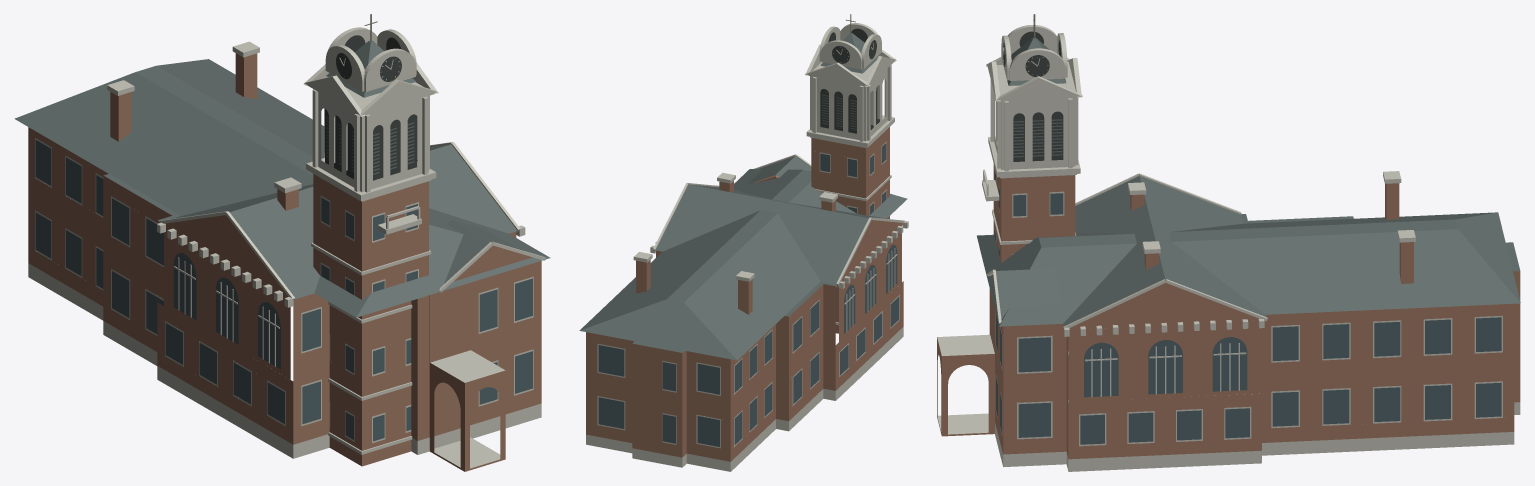
The model's file is gwinnett-historic-courthouse-near.glb.
3 views of the same model, side by side, from view 1: azimuth 30°, elevation 25°; view 2: azimuth 150°, elevation 25°; view 3: azimuth 270°, elevation 25° (orthographic). The views are drawn at different scales.
Parts seen in each view (by area): view 1: gwinnett-historic-courthouse-0-brick, gwinnett-historic-courthouse-0-roof, gwinnett-historic-courthouse-0-stone, gwinnett-historic-courthouse-0-glass, gwinnett-historic-courthouse-0-dark; view 2: gwinnett-historic-courthouse-0-roof, gwinnett-historic-courthouse-0-brick, gwinnett-historic-courthouse-0-stone, gwinnett-historic-courthouse-0-glass, gwinnett-historic-courthouse-0-dark; view 3: gwinnett-historic-courthouse-0-brick, gwinnett-historic-courthouse-0-roof, gwinnett-historic-courthouse-0-stone, gwinnett-historic-courthouse-0-glass, gwinnett-historic-courthouse-0-dark.
Boxes of the visible parts, x1,y1,x2,y2 form: gwinnett-historic-courthouse-0-brick: (28,53,541,471); gwinnett-historic-courthouse-0-roof: (14,40,550,317); gwinnett-historic-courthouse-0-stone: (28,27,545,468); gwinnett-historic-courthouse-0-glass: (35,140,532,441); gwinnett-historic-courthouse-0-dark: (325,35,417,180); gwinnett-historic-courthouse-0-roof: (579,33,907,360); gwinnett-historic-courthouse-0-brick: (586,127,903,461); gwinnett-historic-courthouse-0-stone: (586,23,908,471); gwinnett-historic-courthouse-0-glass: (598,143,899,446); gwinnett-historic-courthouse-0-dark: (820,28,879,133); gwinnett-historic-courthouse-0-brick: (937,164,1520,459); gwinnett-historic-courthouse-0-roof: (977,38,1520,326); gwinnett-historic-courthouse-0-stone: (937,25,1520,471); gwinnett-historic-courthouse-0-glass: (994,170,1501,444); gwinnett-historic-courthouse-0-dark: (1003,31,1063,161).
Size of the model in its own units: 24.37 by 36.5 by 50.08.
